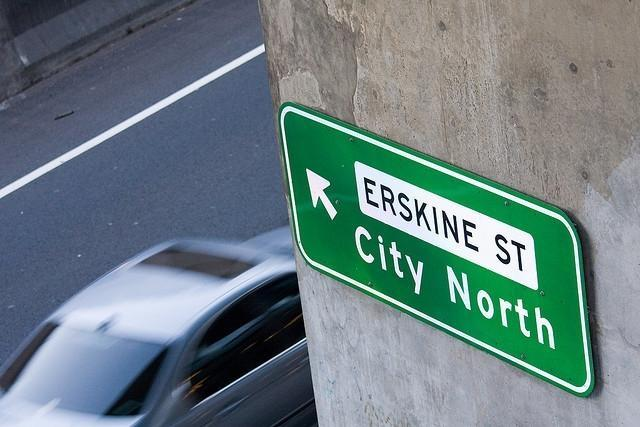car: (1, 228, 318, 420)
